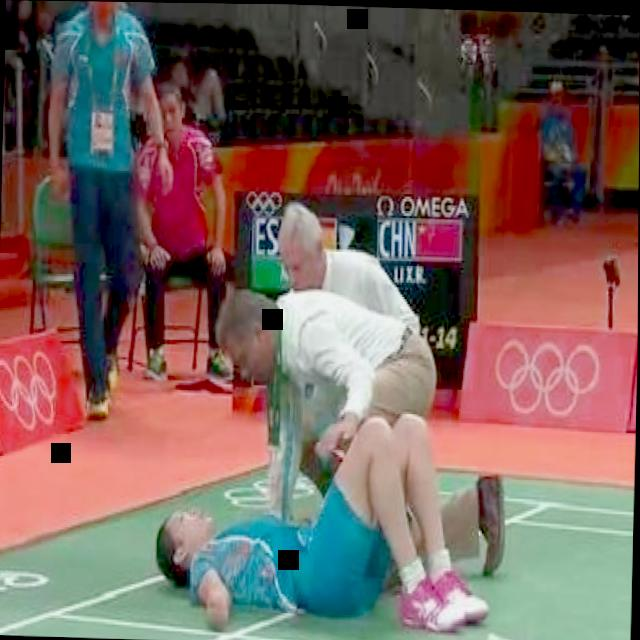Fall-Detected: (155, 400, 514, 636)
